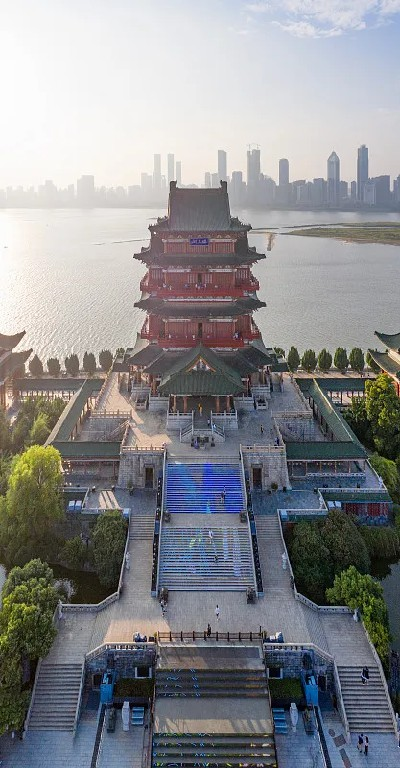Teng: (123, 181, 276, 396)
